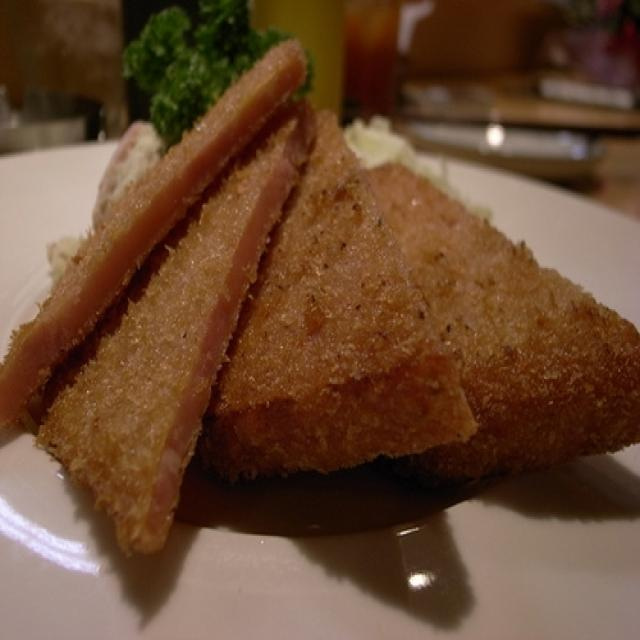炸货点心: (5, 26, 635, 597)
